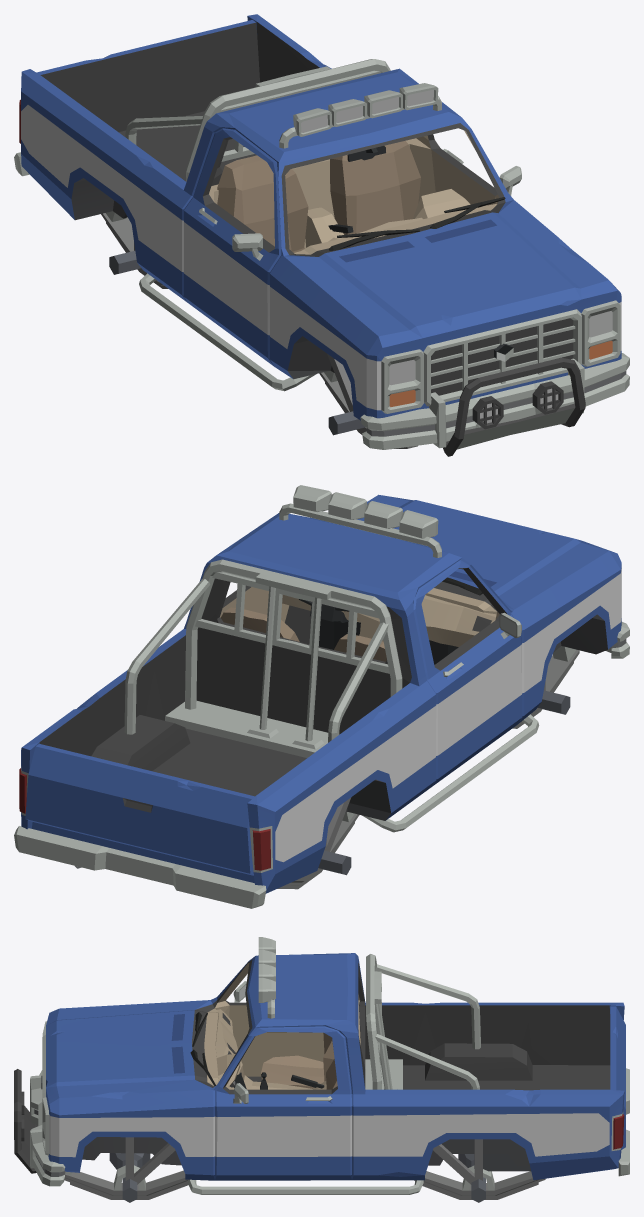
File: SM_Veh_Pickup_01_566.obj
The picture shows the model from 3 angles, top to bottom: view 1: azimuth 30°, elevation 25°; view 2: azimuth 150°, elevation 25°; view 3: azimuth 270°, elevation 25°; orthographic projection. The views are drawn at different scales.
Visible parts, largest first — view 1: SM_Veh_Pickup_01_0; view 2: SM_Veh_Pickup_01_0; view 3: SM_Veh_Pickup_01_0.
Boxes of the visible parts, left/top/right/bottom form: SM_Veh_Pickup_01_0: left=14, top=14, right=629, bottom=456; SM_Veh_Pickup_01_0: left=14, top=485, right=629, bottom=908; SM_Veh_Pickup_01_0: left=14, top=937, right=629, bottom=1202.
Size of the model in its own units: 2.34 by 2.04 by 5.44.
1 material, 1 textured.
